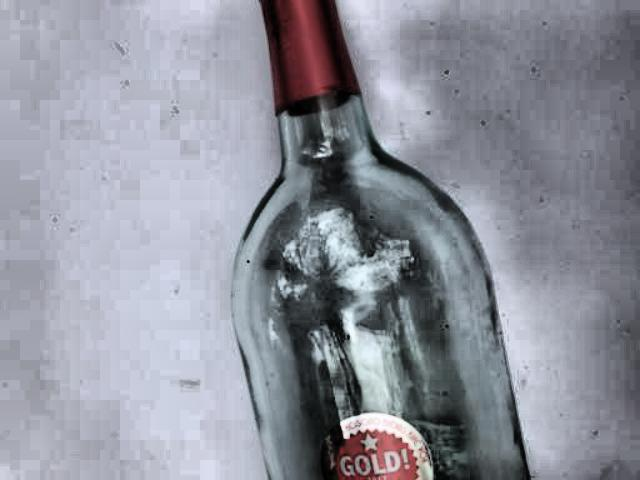Bottles: (202, 0, 536, 480)
